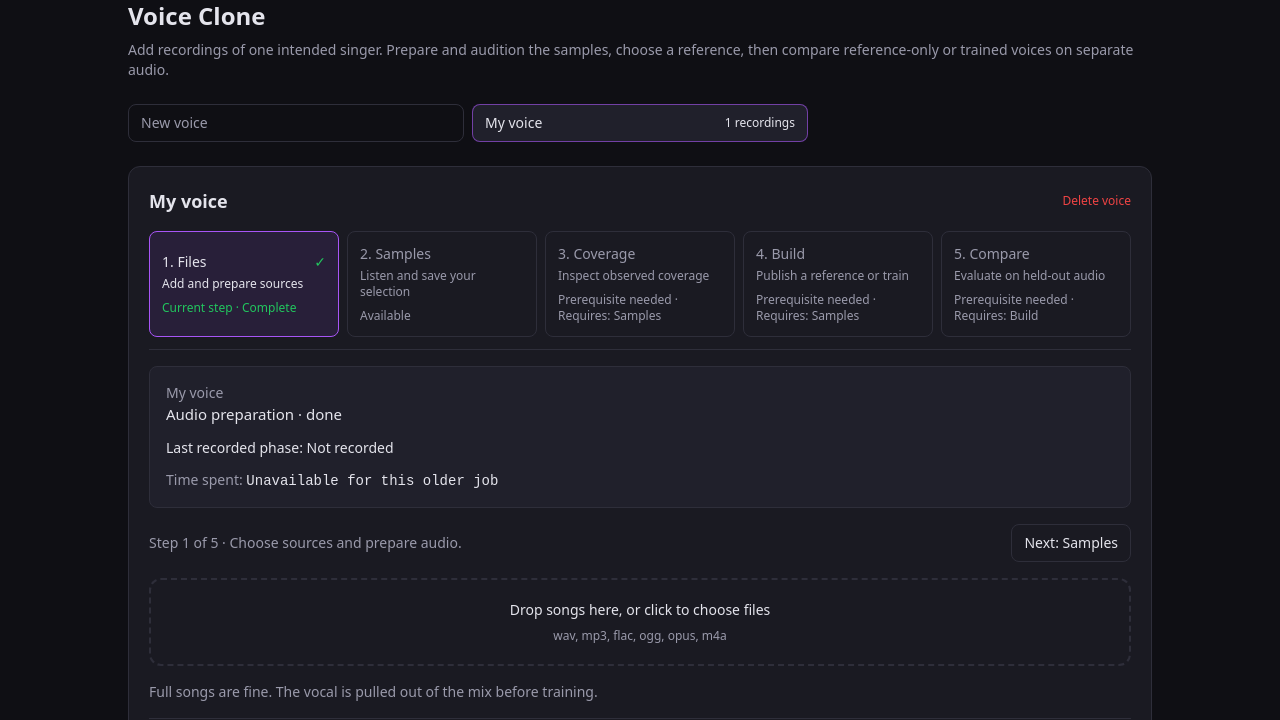
Test: reports selected duration separately from measured coverage when samples are unavailable
The image size is (1280, 720).
Click the tab with aria-label "Coverage": (640, 284) [545,231,735,337]
(page scrolled)
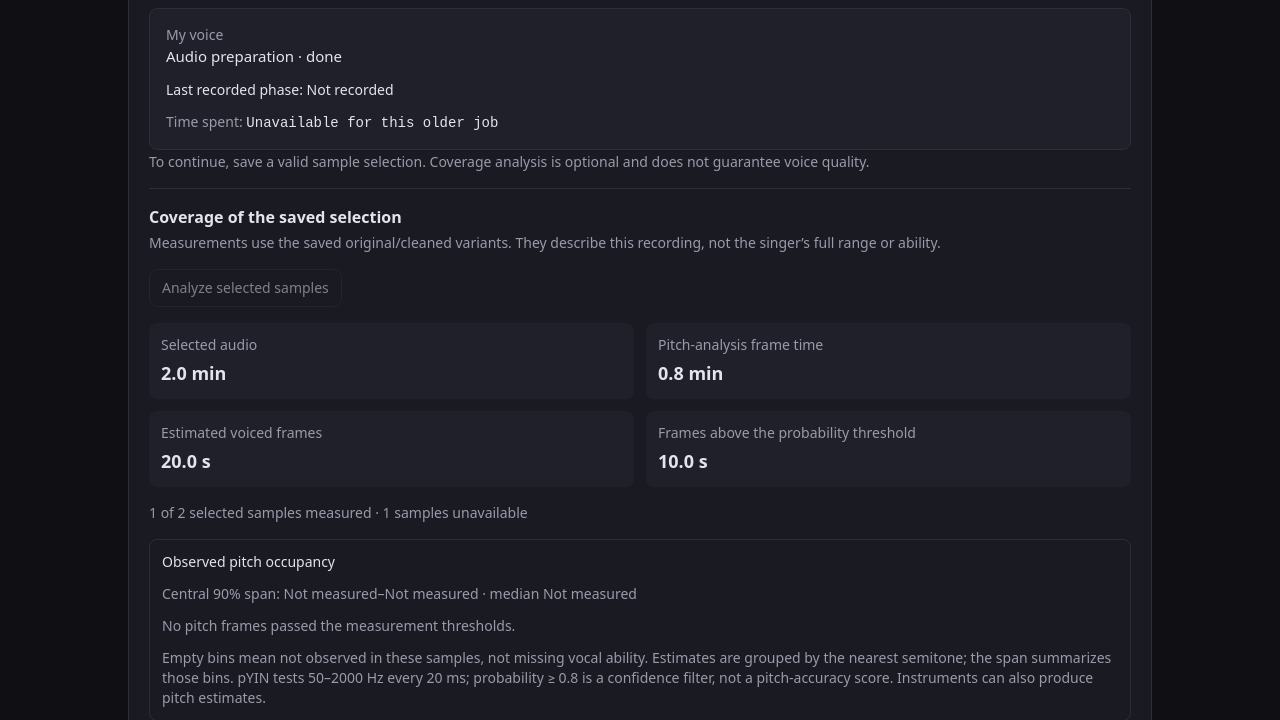
Expected: the text "1 of 2 selected samples measured · 1 samples unavailable" is shown, [149,502,528,522]
